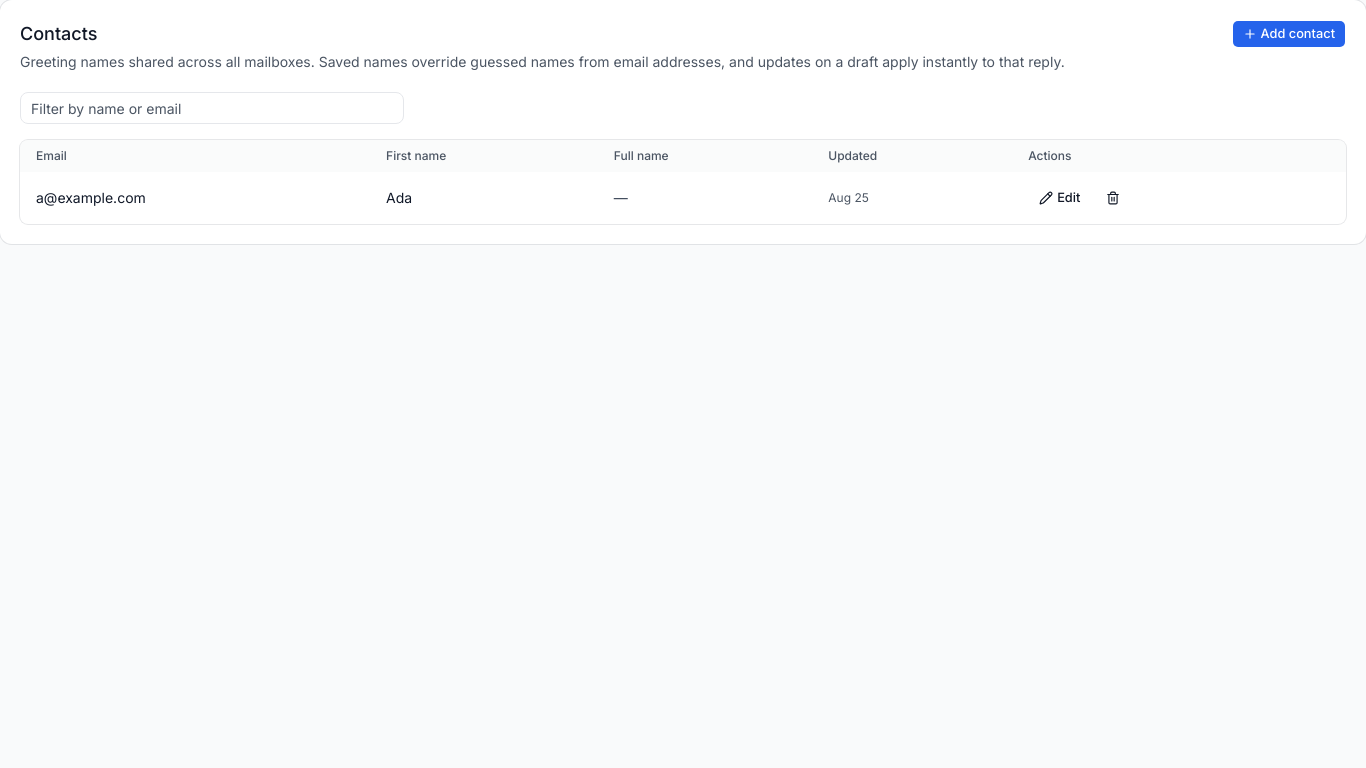
Test case: ContactsSection › requires confirm before delete and removes the row
Expected: the text "a@example.com" is shown, left=20, top=172, right=370, bottom=224
Click the button named "Delete contact a@example.com" at (1113, 198), box left=1095, top=184, right=1131, bottom=212
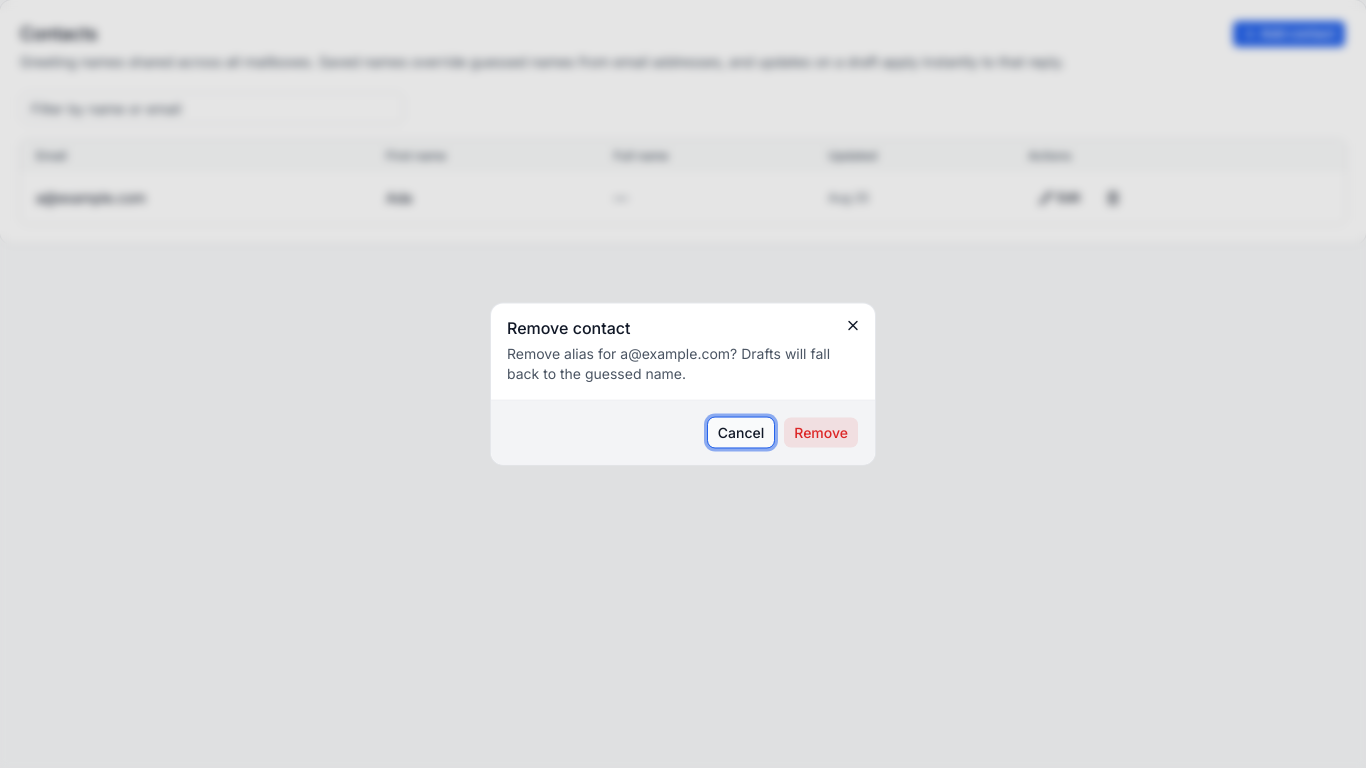
Expected: the text "Remove alias for a@example.com" is shown, left=507, top=344, right=859, bottom=384
Click the button with aria-label "Confirm delete contact" at (821, 432), box left=783, top=416, right=859, bottom=448
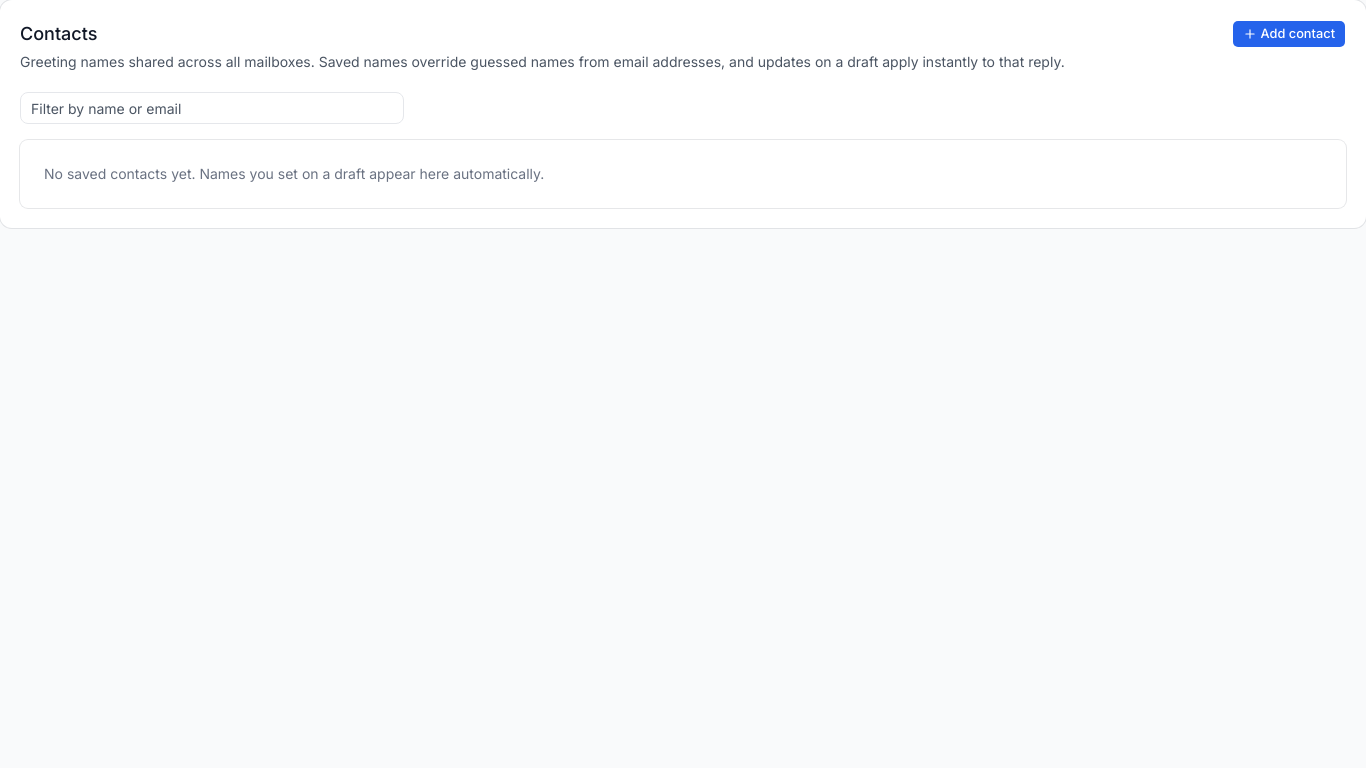
Expected: the text "a@example.com" is gone
